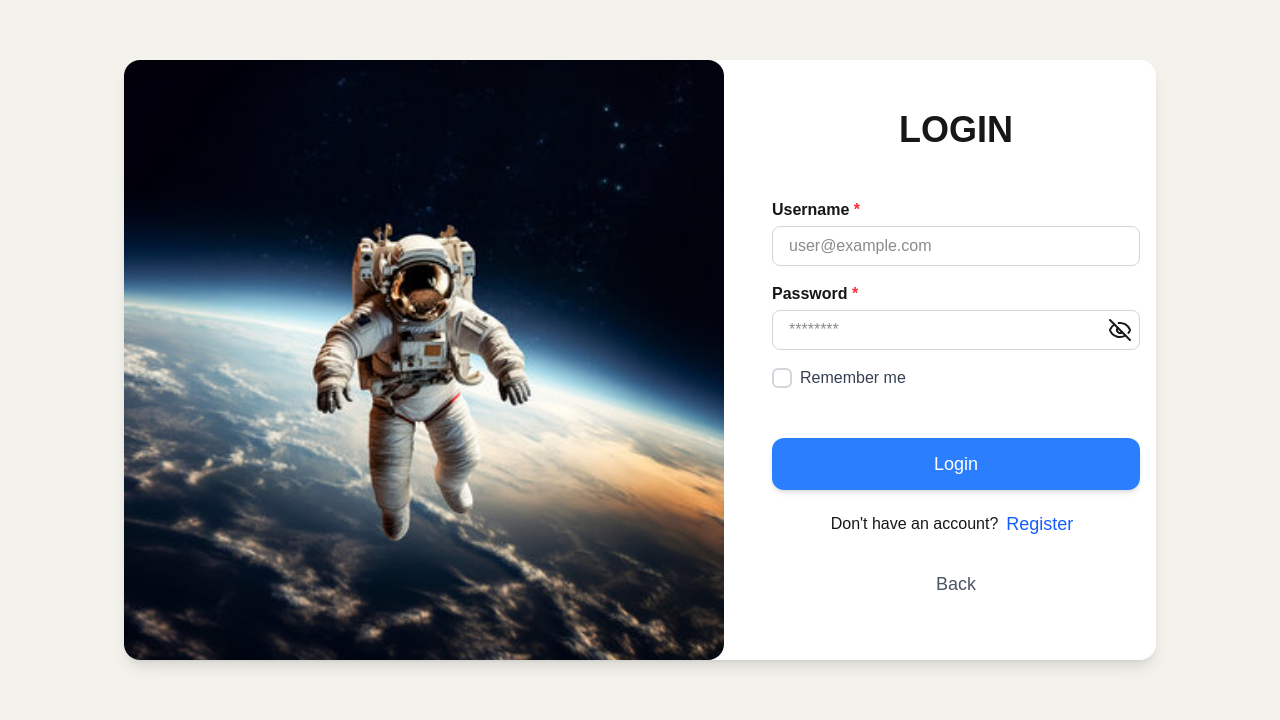
Test case: Login Form - E2E Testing › 3. Validation - Invalid Format › 3.1. Should show error for invalid email format
The image size is (1280, 720).
In the field named "username": (956, 246) [772,226,1140,266], type "testexample.com"
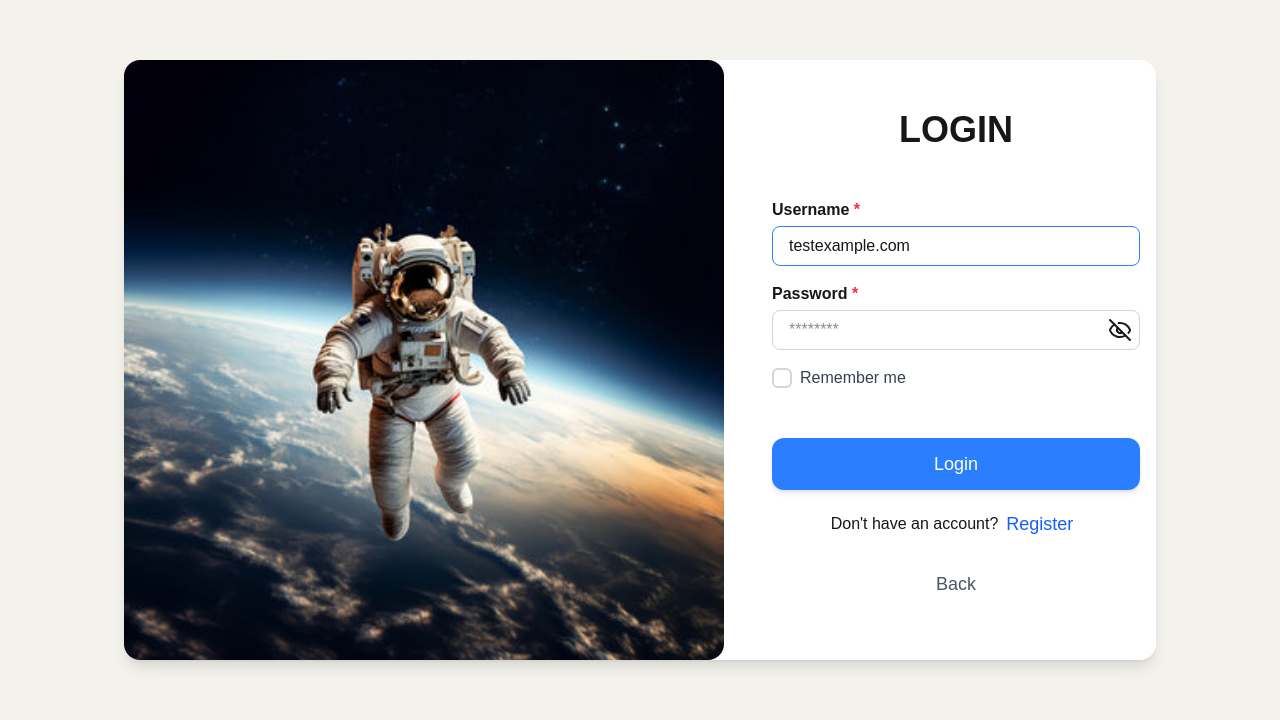
In the password field named "password": (956, 330) [772,310,1140,350], type "Password123!"
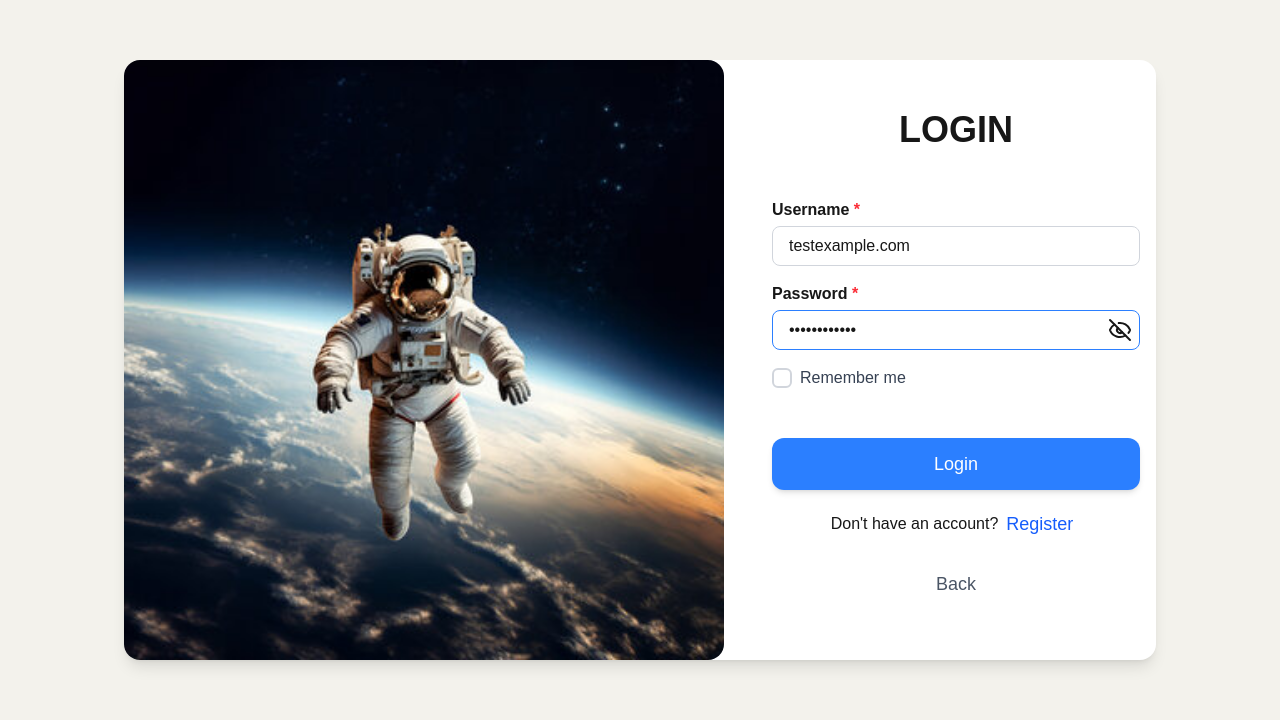
Click the button "Login": click(956, 464) [772,438,1140,490]
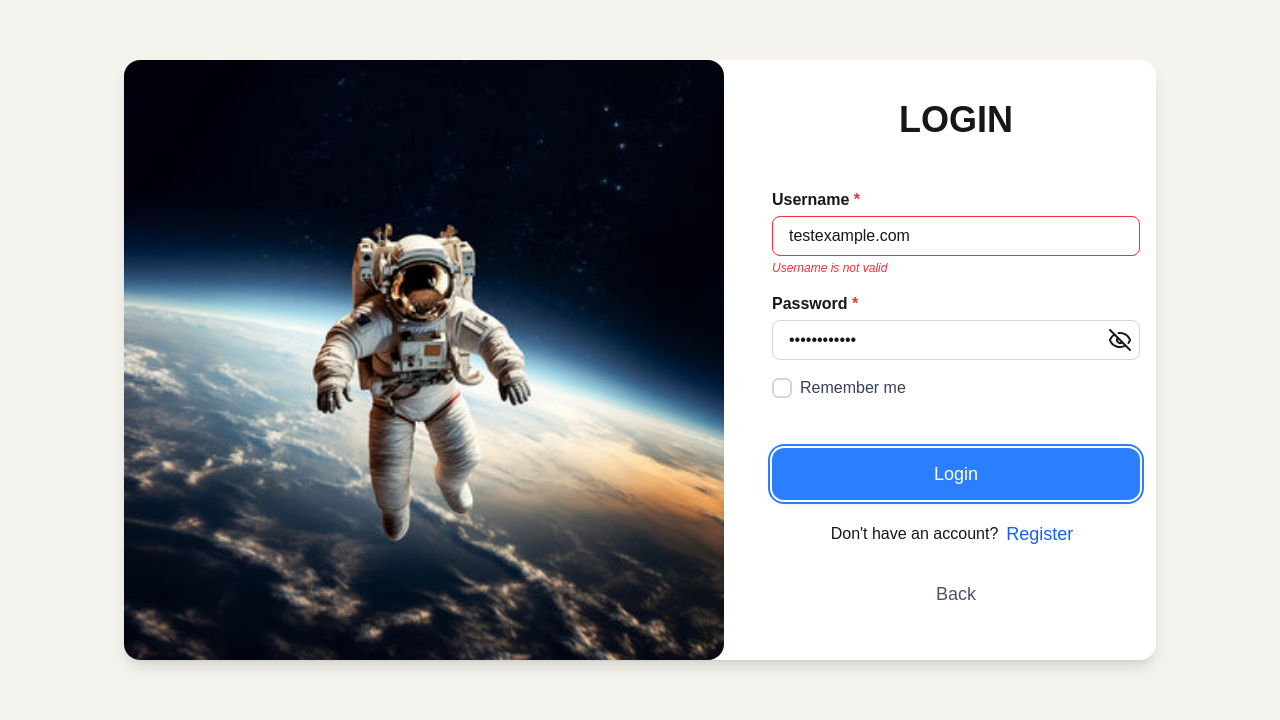
Check: the text "Username is not valid" is shown, box [772,261,887,275]
